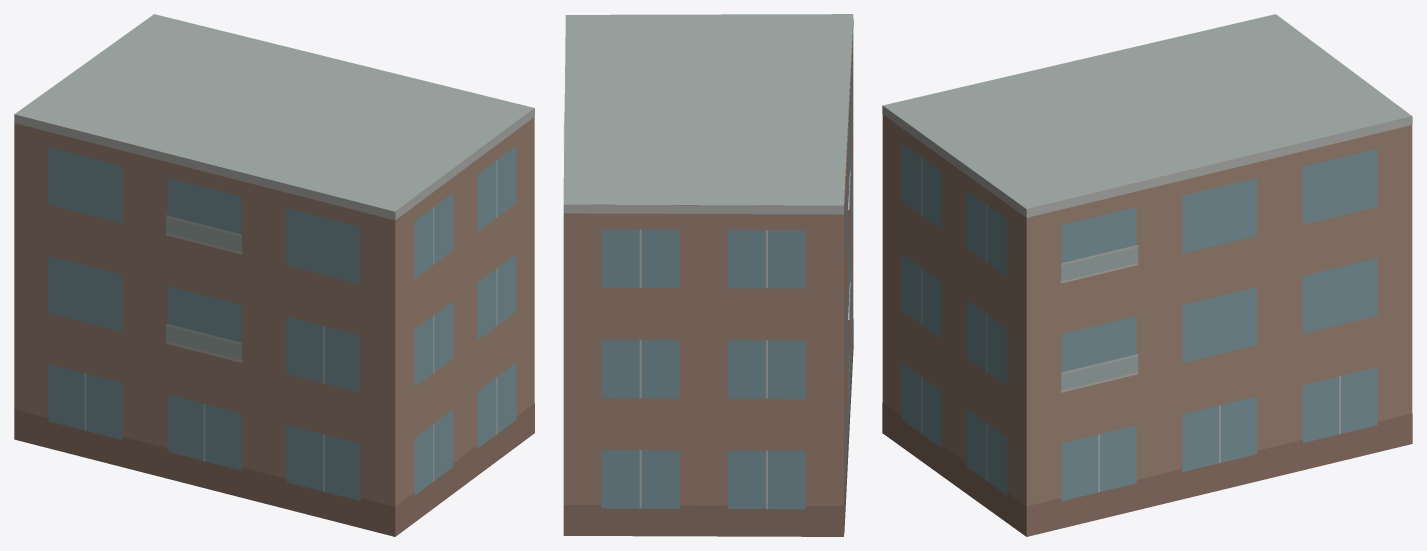
Rendered from survey-upis-32709363.glb.
3 renders of one model, left to right at view 1: azimuth 30°, elevation 25°; view 2: azimuth 150°, elevation 25°; view 3: azimuth 270°, elevation 25°, orthographic.
Parts seen in each view (by area): view 1: survey-upis-32709363.tmp; view 2: survey-upis-32709363.tmp; view 3: survey-upis-32709363.tmp.
Boxes of the visible parts, x1,y1,x2,y2 form: survey-upis-32709363.tmp: (14, 14, 534, 536); survey-upis-32709363.tmp: (563, 14, 853, 536); survey-upis-32709363.tmp: (882, 14, 1412, 536).
Bounding box in the file's own units: 11.7 × 9.15 × 13.42.
